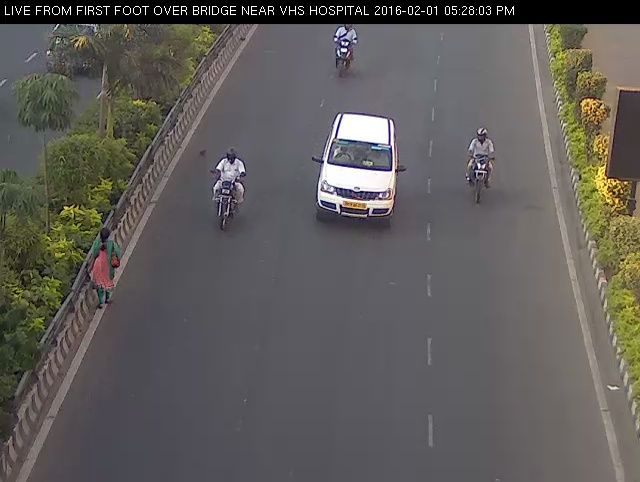Car: (299, 98, 413, 236)
Person: (204, 142, 251, 233), (84, 223, 127, 311), (463, 122, 500, 204), (328, 18, 363, 82)
